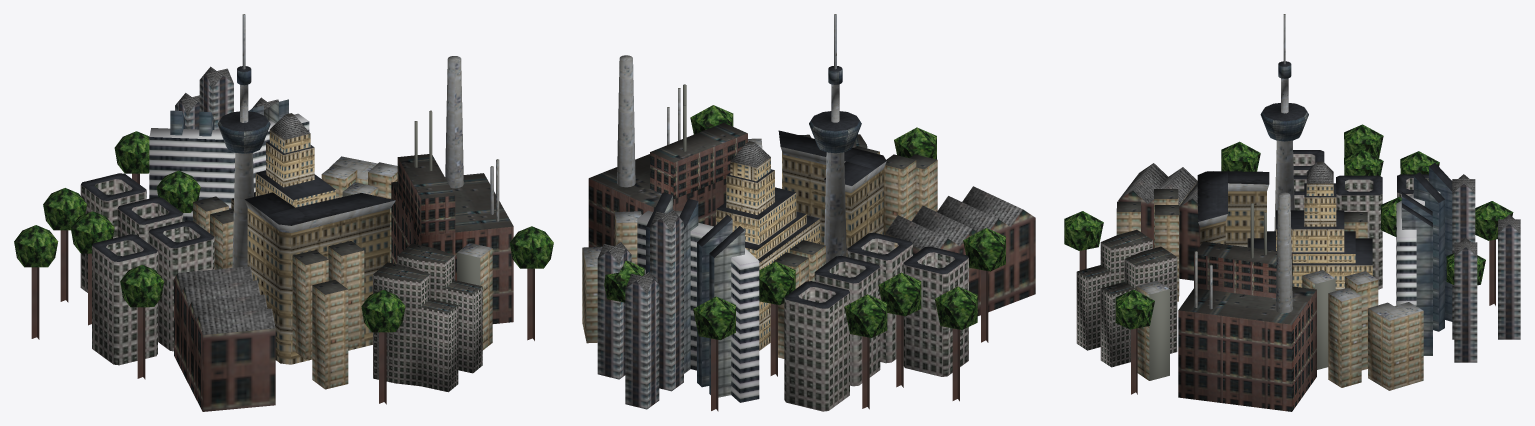
File: city_modern_2.glb
3 views of the same model, side by side, from view 1: azimuth 30°, elevation 25°; view 2: azimuth 150°, elevation 25°; view 3: azimuth 270°, elevation 25° (orthographic). The views are drawn at different scales.
Visible parts, largest first — view 1: ModernCity_Tier3; view 2: ModernCity_Tier3; view 3: ModernCity_Tier3.
Part boxes in pixels (<box>): ModernCity_Tier3: <box>14,14,553,411</box>; ModernCity_Tier3: <box>582,14,1035,411</box>; ModernCity_Tier3: <box>1064,14,1520,411</box>.
Bounding box in the file's own units: 3.6 × 2.57 × 3.63.
Materials: 1 (1 with a texture image).
